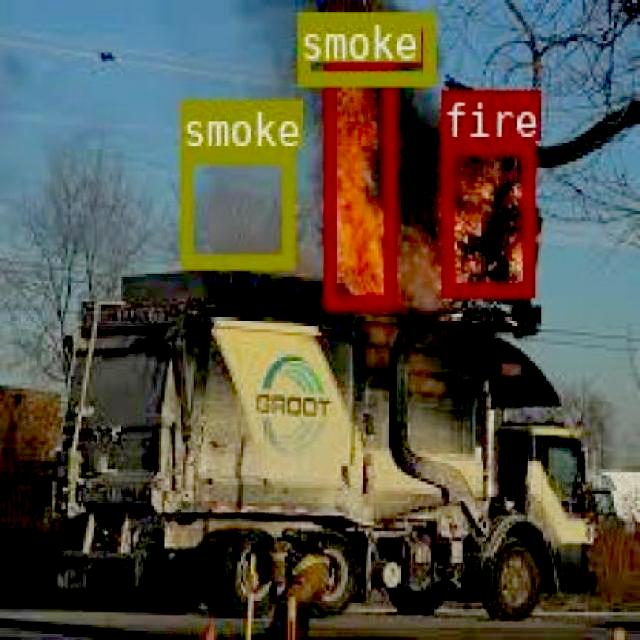fire: (324, 63, 392, 306), (440, 140, 531, 294)
smoke: (178, 146, 292, 265), (296, 9, 432, 82)
